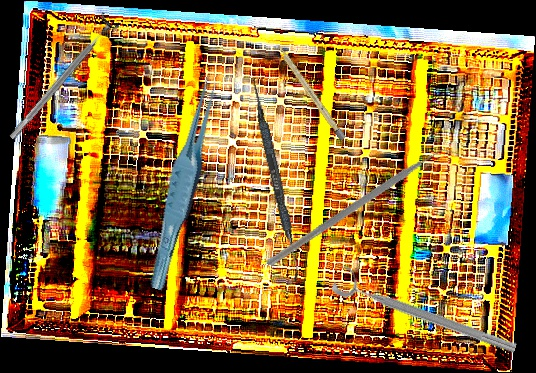Chopper: (265, 99, 462, 319)
Fixation Ring: (330, 262, 523, 359), (2, 11, 121, 146)
Scalpel Handle: (273, 41, 347, 142)
Spatula Surgical: (245, 77, 307, 283)
Tissue Forceps: (133, 71, 237, 292)
